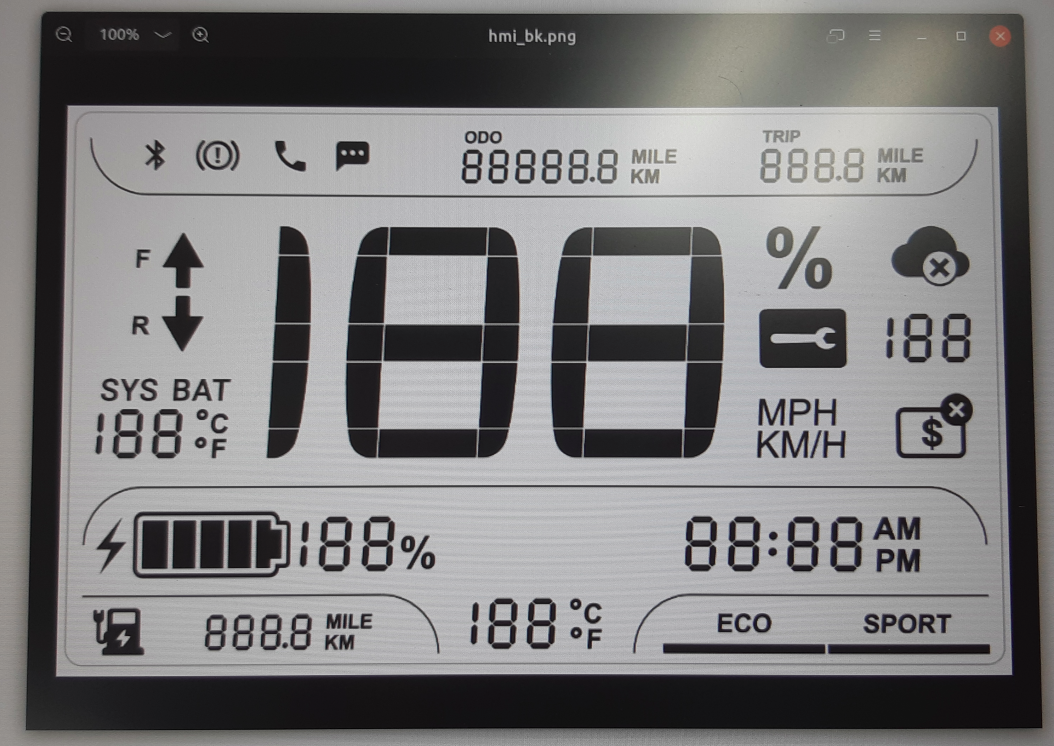bluetooth_on: (141, 134, 168, 174)
braking_on: (192, 136, 242, 176)
calling_on: (270, 137, 308, 173)
connection_lost: (889, 223, 972, 289)
error_code: (755, 305, 851, 371)
low_battery: (89, 603, 149, 659)
sms_on: (331, 137, 374, 174)
vin_id: (892, 390, 975, 462)
